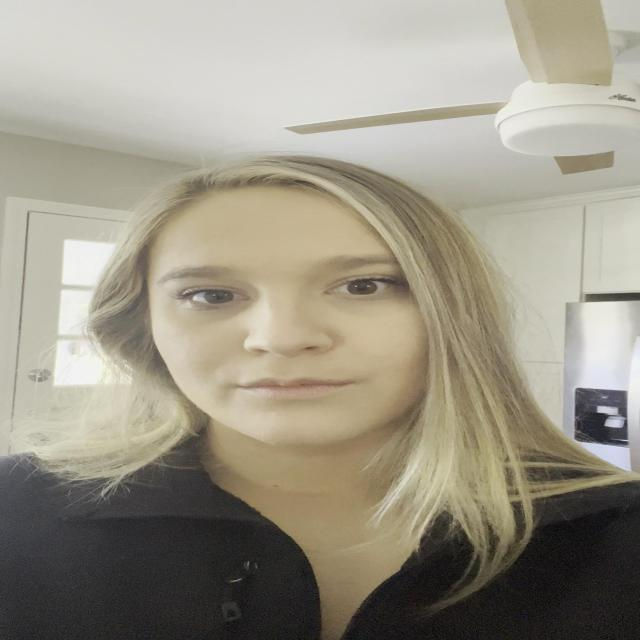no-helmet: (126, 163, 490, 477)
